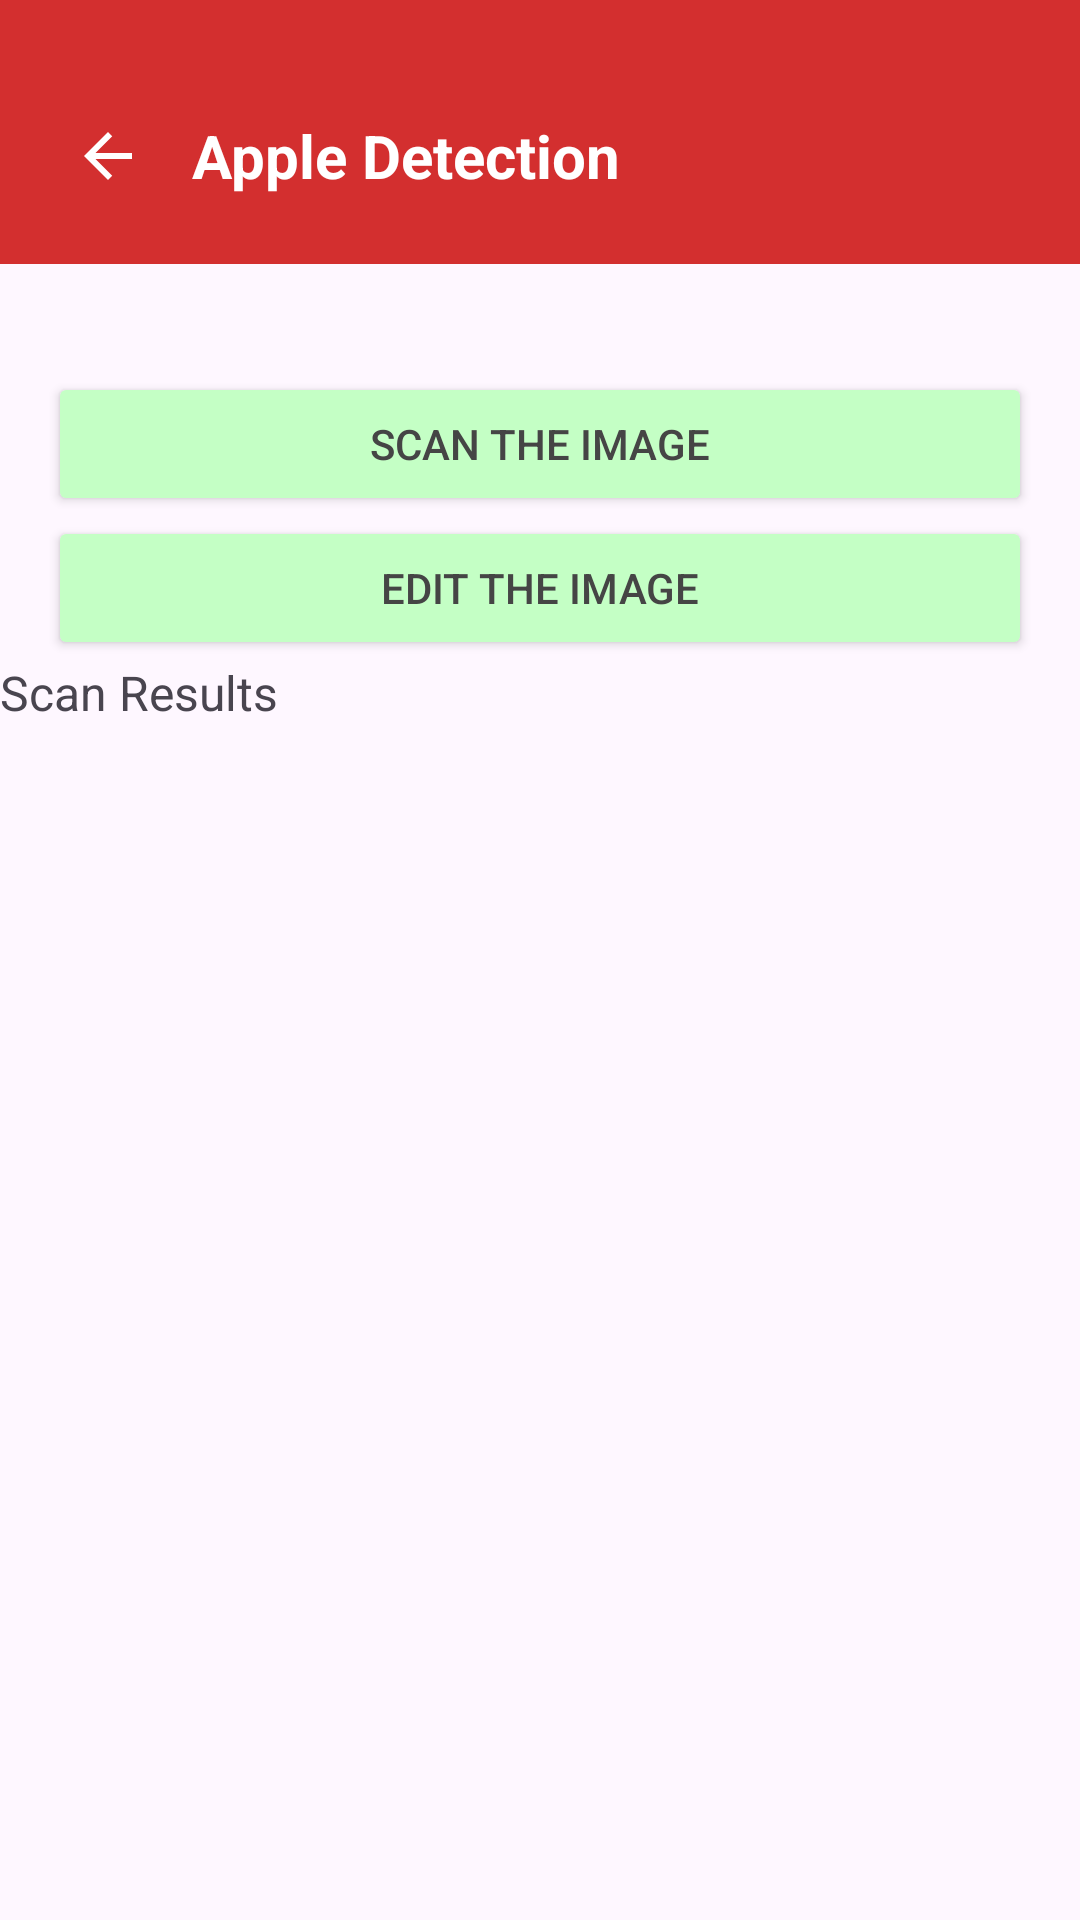

Screen size 1080px x 1920px. Icon name, then its box in pixels as (x1, y1, x2, y2):
Back: (84, 132, 132, 180)
